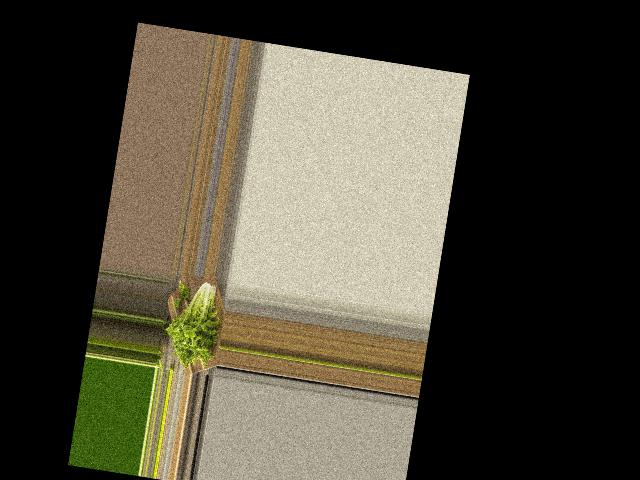lettuce: (162, 272, 227, 368)
